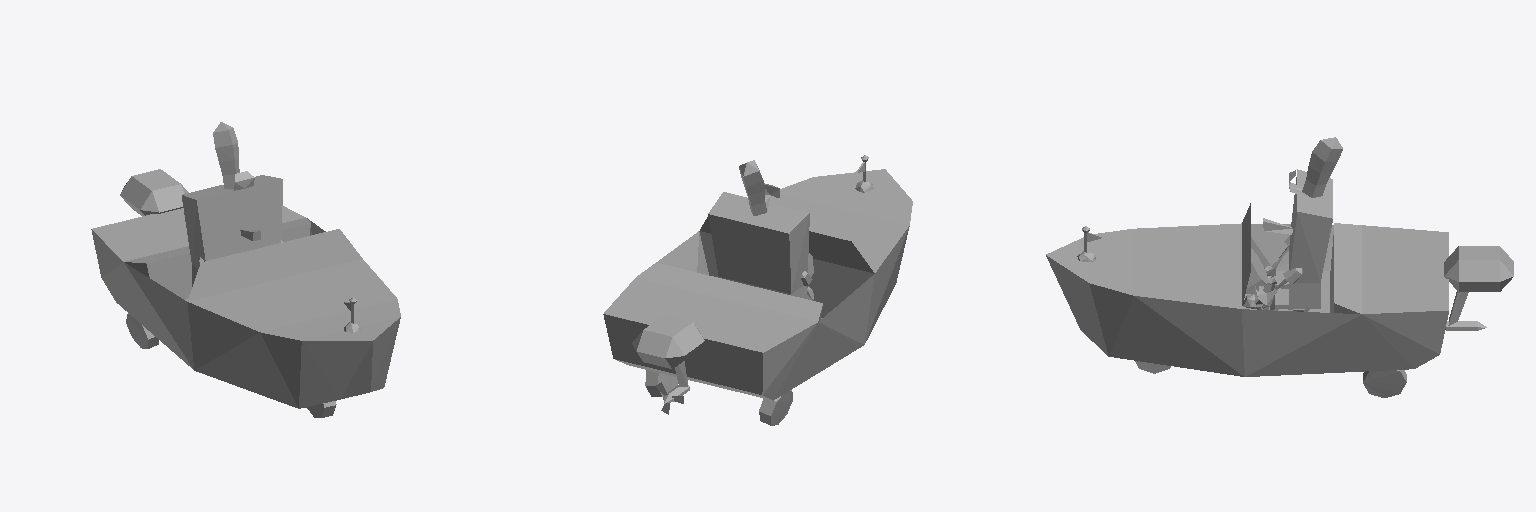
The model's file is FEEPK5E0CZV6F0ZJTQYFDZ3JP.obj.
3 views of the same model, side by side, from view 1: azimuth 30°, elevation 25°; view 2: azimuth 150°, elevation 25°; view 3: azimuth 270°, elevation 25° (orthographic).
Parts seen in each view (by area): view 1: Object_boat1.jpg, Object_sbob.jpg; view 2: Object_boat1.jpg, Object_sbob.jpg; view 3: Object_boat1.jpg, Object_sbob.jpg.
Part boxes in pixels (x1,y1,x2,y2): Object_boat1.jpg: (91, 122, 400, 417); Object_sbob.jpg: (182, 175, 282, 286); Object_boat1.jpg: (603, 155, 912, 425); Object_sbob.jpg: (708, 192, 813, 300); Object_boat1.jpg: (1046, 137, 1513, 397); Object_sbob.jpg: (1243, 169, 1332, 311).
Bounding box in the file's own units: 1.12 × 1.36 × 2.5.